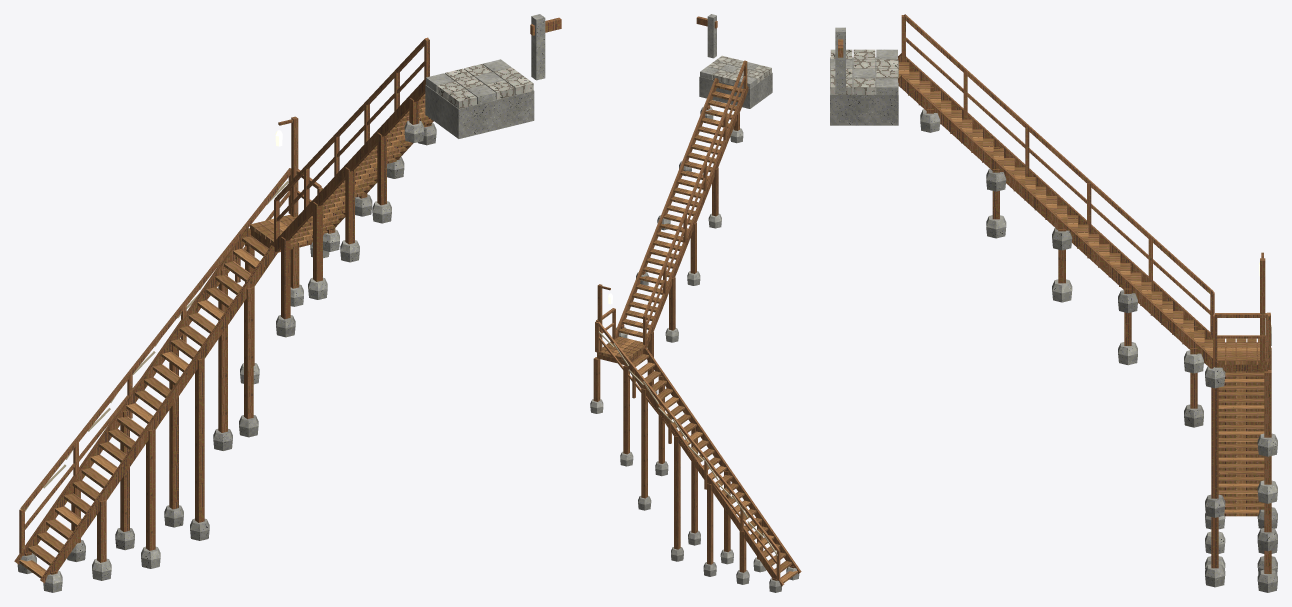
The model's file is stair.glb.
3 views of the same model, side by side, from view 1: azimuth 30°, elevation 25°; view 2: azimuth 150°, elevation 25°; view 3: azimuth 270°, elevation 25° (orthographic). The views are drawn at different scales.
Visible parts, largest first — view 1: Stair_FramePosts, Stair_Tread, Stair_FrameStringers, Stair_FrameRail, Stair_Footing, Stair_LandingHead, Stair_Dressing, Stair_LandingMid; view 2: Stair_Tread, Stair_FramePosts, Stair_FrameStringers, Stair_FrameRail, Stair_Footing, Stair_LandingHead, Stair_Dressing, Stair_LandingMid; view 3: Stair_Tread, Stair_Footing, Stair_FrameStringers, Stair_FrameRail, Stair_LandingHead, Stair_FramePosts, Stair_LandingMid, Stair_Dressing.
Part boxes in pixels (left/top/right/bottom): Stair_FramePosts: left=25, top=98, right=431, bottom=574; Stair_Tread: left=19, top=93, right=432, bottom=578; Stair_FrameStringers: left=14, top=66, right=472, bottom=583; Stair_FrameRail: left=19, top=37, right=429, bottom=553; Stair_Footing: left=17, top=120, right=436, bottom=592; Stair_LandingHead: left=425, top=59, right=534, bottom=138; Stair_Dressing: left=25, top=14, right=561, bottom=511; Stair_LandingMid: left=249, top=214, right=311, bottom=252; Stair_Tread: left=615, top=82, right=798, bottom=582; Stair_FramePosts: left=593, top=105, right=794, bottom=580; Stair_FrameStringers: left=615, top=78, right=801, bottom=586; Stair_FrameRail: left=595, top=60, right=780, bottom=580; Stair_Footing: left=590, top=107, right=799, bottom=592; Stair_LandingHead: left=699, top=55, right=772, bottom=108; Stair_Dressing: left=597, top=14, right=777, bottom=555; Stair_LandingMid: left=597, top=339, right=643, bottom=364; Stair_Tread: left=898, top=62, right=1264, bottom=516; Stair_Footing: left=920, top=109, right=1277, bottom=592; Stair_FrameStringers: left=898, top=53, right=1218, bottom=368; Stair_FrameRail: left=901, top=14, right=1270, bottom=361; Stair_LandingHead: left=830, top=49, right=898, bottom=125; Stair_FramePosts: left=926, top=87, right=1271, bottom=573; Stair_LandingMid: left=1215, top=338, right=1267, bottom=371; Stair_Dressing: left=835, top=27, right=1271, bottom=360.
Bounding box in the file's own units: 7.57 × 13.55 × 8.49.
8 materials, 6 textured.
